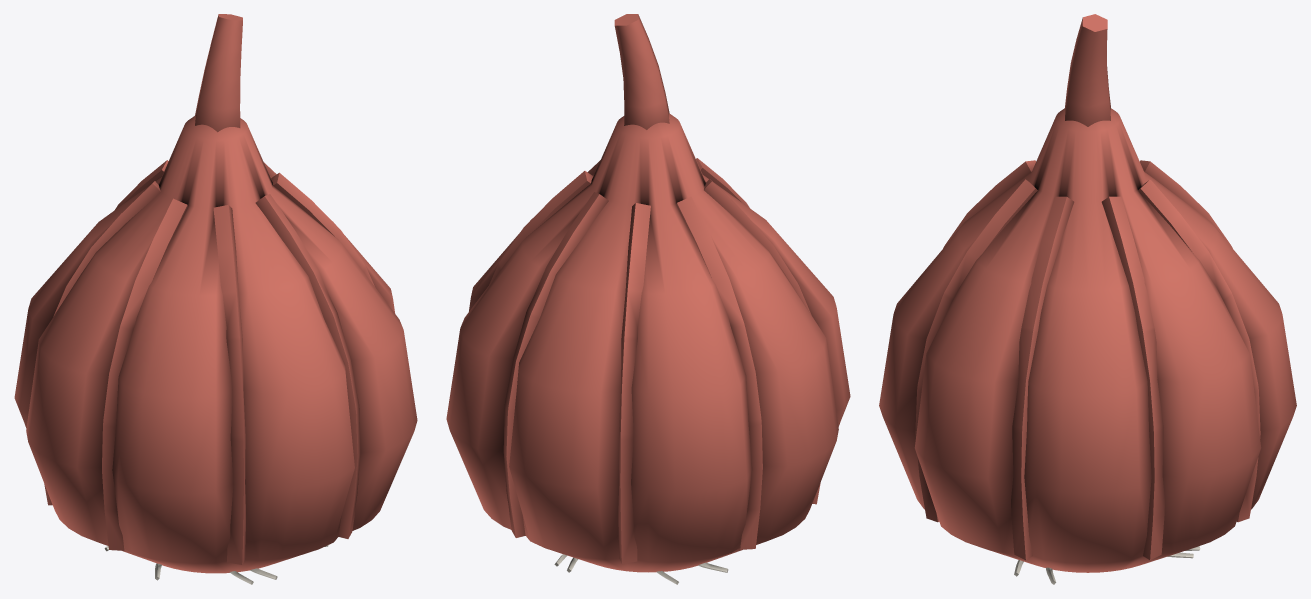
File: food_garlic.glb
The picture shows the model from 3 angles, left to right: view 1: azimuth 30°, elevation 25°; view 2: azimuth 150°, elevation 25°; view 3: azimuth 270°, elevation 25°; orthographic projection.
Visible parts, largest first — view 1: PART; view 2: PART; view 3: PART.
Boxes of the visible parts, x1,y1,x2,y2 form: PART: [14, 14, 417, 584]; PART: [446, 14, 850, 584]; PART: [879, 14, 1296, 584].
Bounding box in the file's own units: 0.058 × 0.082 × 0.058.
